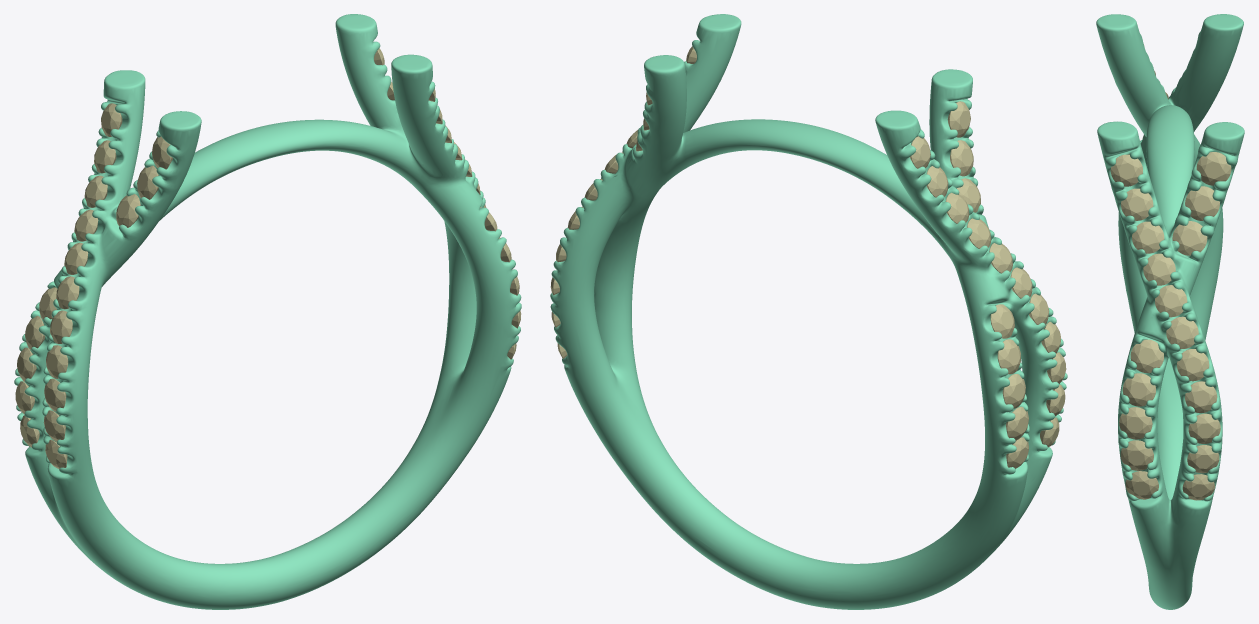
3 views of the same model, side by side, from view 1: azimuth 30°, elevation 25°; view 2: azimuth 150°, elevation 25°; view 3: azimuth 270°, elevation 25° (orthographic). The views are drawn at different scales.
Visible parts, largest first — view 1: Metal02; view 2: Metal02; view 3: Metal02, Diamond_Gem.005, Diamond_Gem.007, Diamond_Gem.006, Diamond_Gem, Diamond_Gem.001, Diamond_Gem.002, Diamond_Gem.010, Diamond_Gem.013, Diamond_Gem.014, Diamond_Gem.008, Diamond_Gem.003 (+8 smaller).
Boxes of the visible parts, x1,y1,x2,y2 form: Metal02: (14,14,521,609); Metal02: (550,14,1067,609); Metal02: (1096,14,1244,609); Diamond_Gem.005: (1196,152,1231,185); Diamond_Gem.007: (1172,221,1207,255); Diamond_Gem.006: (1185,186,1219,220); Diamond_Gem: (1130,339,1163,372); Diamond_Gem.001: (1122,373,1155,406); Diamond_Gem.002: (1119,407,1152,439); Diamond_Gem.010: (1132,221,1164,253); Diamond_Gem.013: (1166,316,1198,348); Diamond_Gem.014: (1177,349,1209,381); Diamond_Gem.008: (1110,154,1142,186); Diamond_Gem.003: (1120,440,1153,470).
Size of the model in its own units: 21.2 by 22.65 by 5.97.
